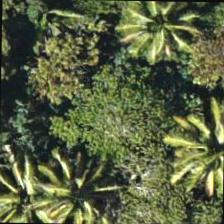Kelapa_Sawit: (104, 0, 196, 81), (27, 152, 119, 224), (164, 102, 224, 194), (0, 174, 74, 223)
